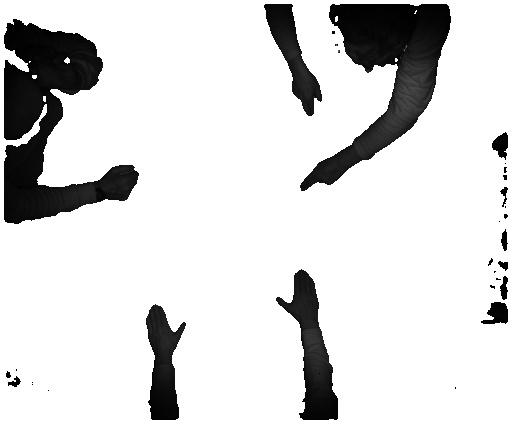fist: (102, 160, 143, 207)
hand: (144, 304, 191, 362), (274, 264, 319, 324), (296, 154, 350, 191), (288, 67, 325, 119)
